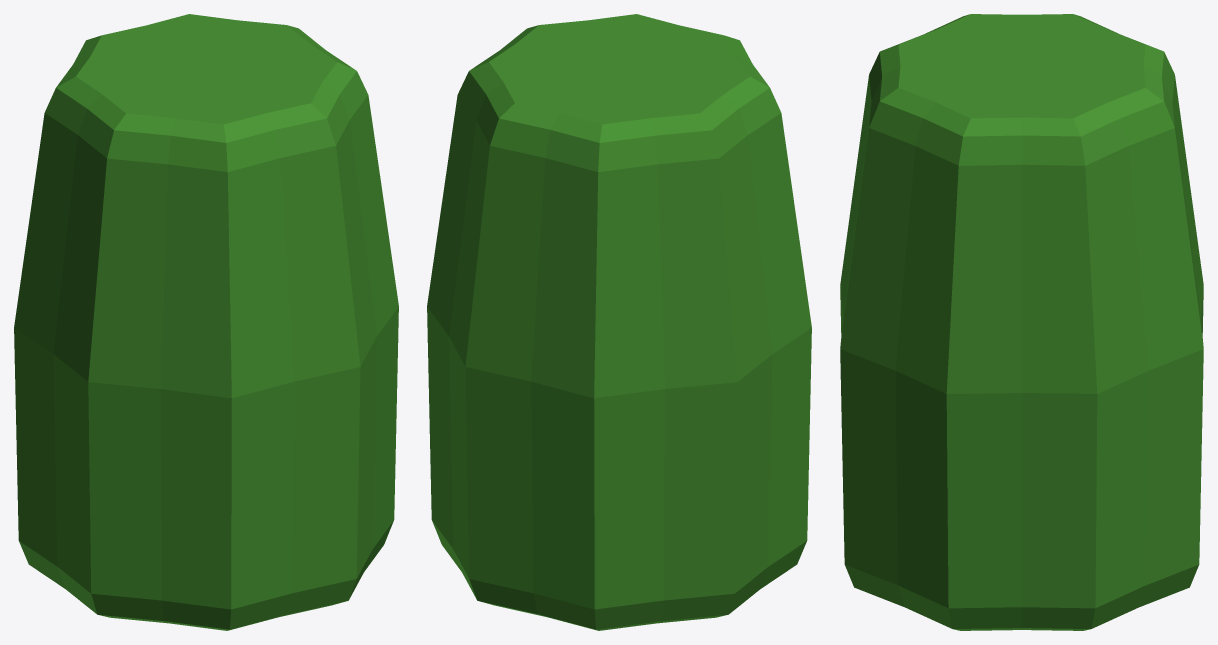
The model's file is Cactus_01_A.fbx.
3 renders of one model, left to right at view 1: azimuth 30°, elevation 25°; view 2: azimuth 150°, elevation 25°; view 3: azimuth 270°, elevation 25°, orthographic.
Parts seen in each view (by area): view 1: Cactus_01_A; view 2: Cactus_01_A; view 3: Cactus_01_A.
Part boxes in pixels (<box>): Cactus_01_A: <box>14,14,398,630</box>; Cactus_01_A: <box>427,14,811,630</box>; Cactus_01_A: <box>840,14,1203,630</box>.
Size of the model in its own units: 47.77 by 72.8 by 47.77.
